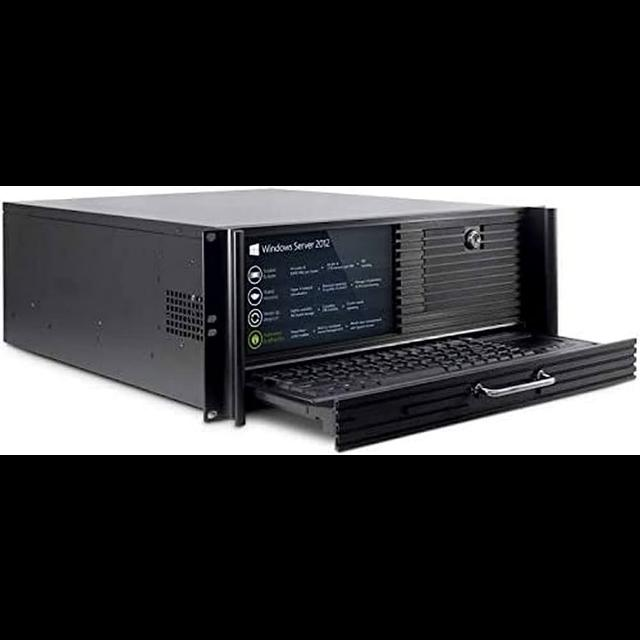Server: (1, 185, 640, 452)
